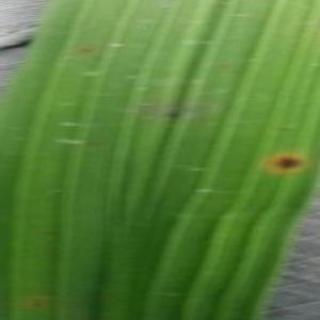bercak-Cokelat: (275, 156, 300, 167)
